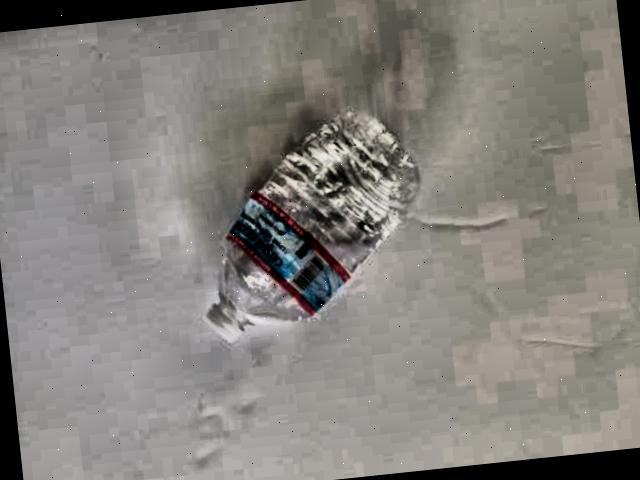Bottles: (164, 97, 448, 356)
